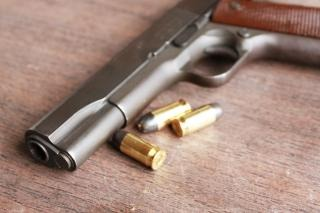bullet: (108, 127, 167, 170)
gun: (22, 0, 320, 172)
